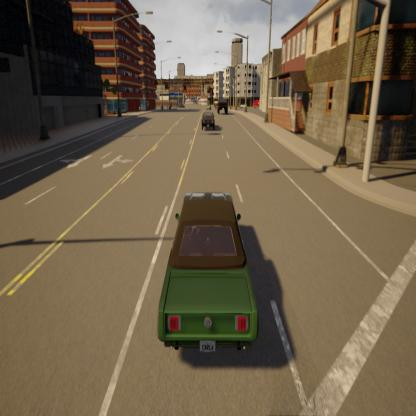Cars: (159, 186, 263, 366), (213, 92, 229, 115), (200, 110, 218, 128)
